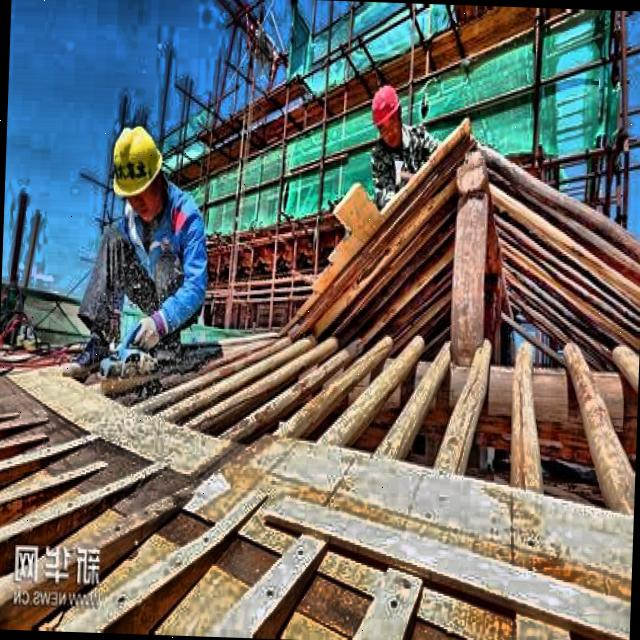helmet: (107, 113, 171, 226), (369, 78, 402, 150)
